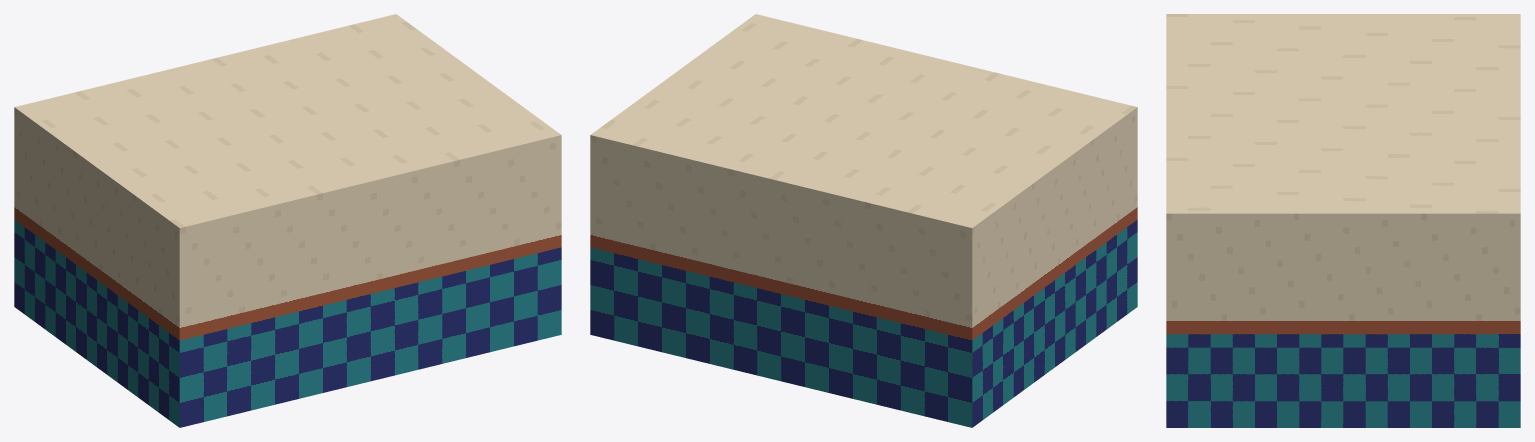
File: room.glb
The picture shows the model from 3 angles, left to right: view 1: azimuth 30°, elevation 25°; view 2: azimuth 150°, elevation 25°; view 3: azimuth 270°, elevation 25°; orthographic projection. The views are drawn at different scales.
Parts seen in each view (by area): view 1: room; view 2: room; view 3: room.
Part boxes in pixels (bbox=[...]): room: bbox=[14, 14, 561, 427]; room: bbox=[590, 14, 1137, 427]; room: bbox=[1166, 14, 1520, 427].
Size of the model in its own units: 8 by 4 by 6.
Materials: 1 (1 with a texture image).
